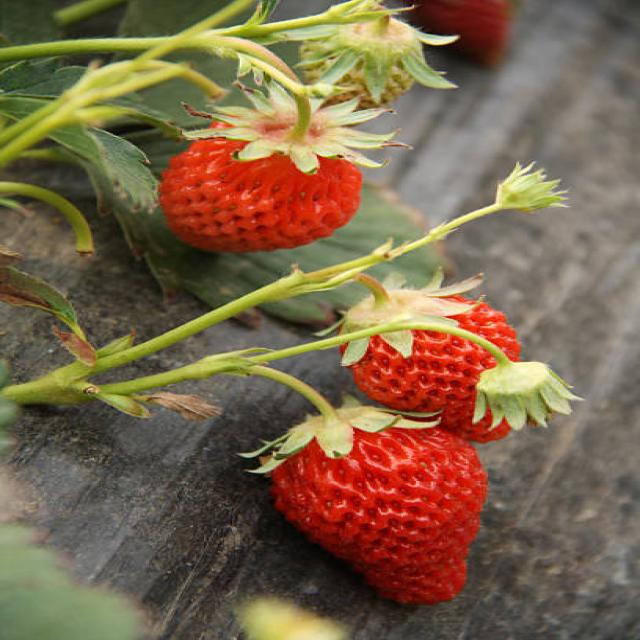Healthy Fruit: (263, 414, 488, 606), (159, 118, 365, 254), (338, 300, 521, 443)
